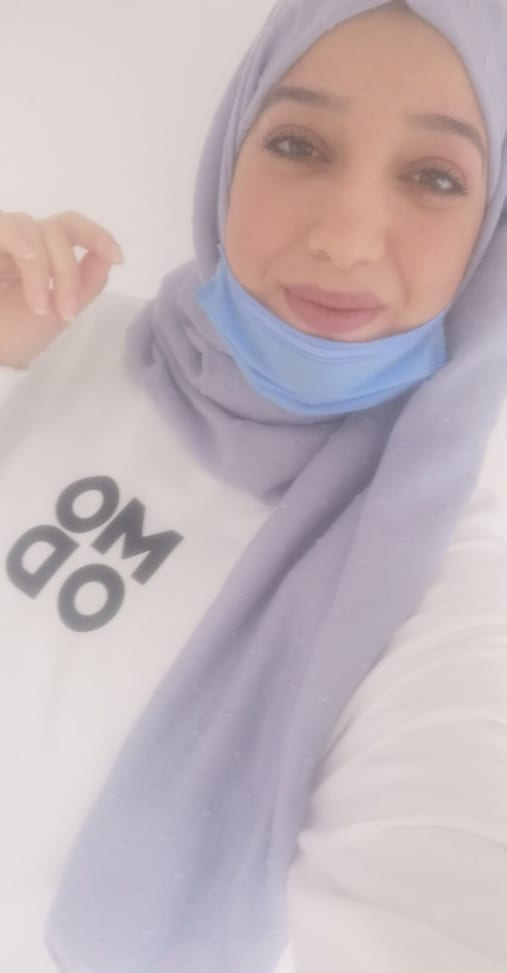mask_weared_incorrect: (196, 80, 495, 386)
